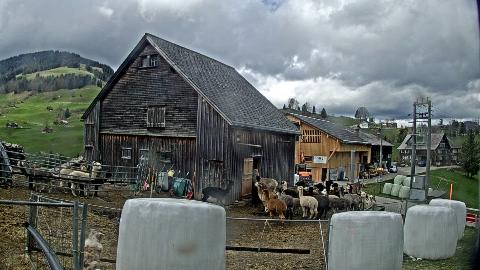car: (388, 166, 398, 172), (418, 161, 426, 167)
sheep: (68, 162, 102, 196), (18, 158, 52, 192), (75, 170, 113, 198), (56, 163, 88, 195), (200, 180, 236, 208), (261, 188, 287, 224), (16, 161, 47, 191), (298, 186, 318, 220), (276, 188, 294, 222), (255, 182, 275, 212), (254, 170, 276, 196), (255, 175, 273, 206), (338, 187, 361, 211), (347, 184, 369, 208), (332, 184, 352, 208), (322, 188, 342, 212), (326, 180, 344, 206), (281, 181, 297, 209), (360, 190, 376, 210), (330, 184, 344, 206), (317, 184, 333, 202)
